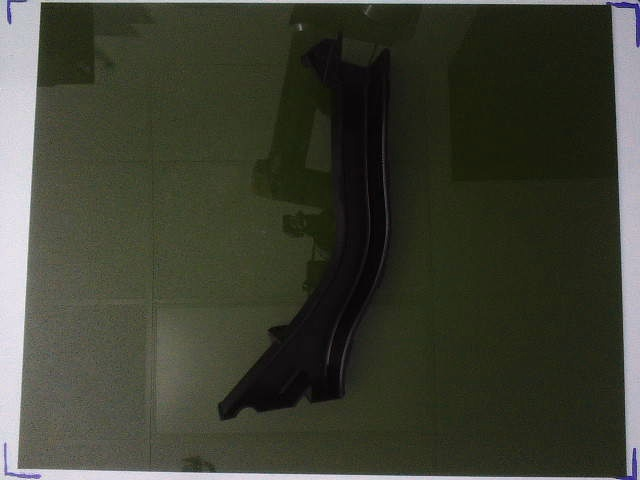887_A-Under: (218, 34, 393, 420)
